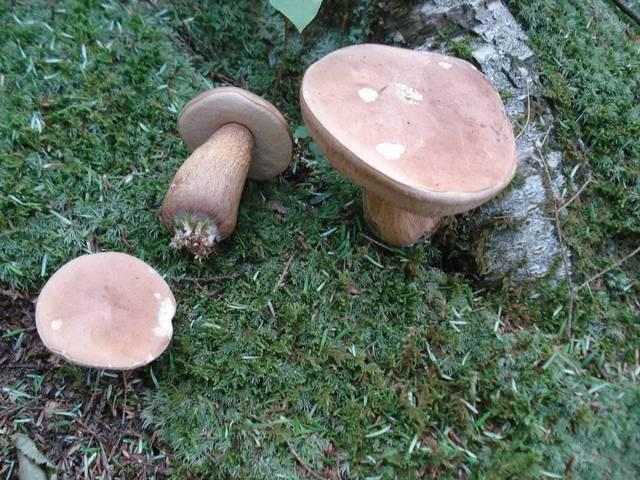Non-edible Mushroom: (298, 41, 518, 248), (157, 84, 293, 258), (33, 249, 177, 372)
